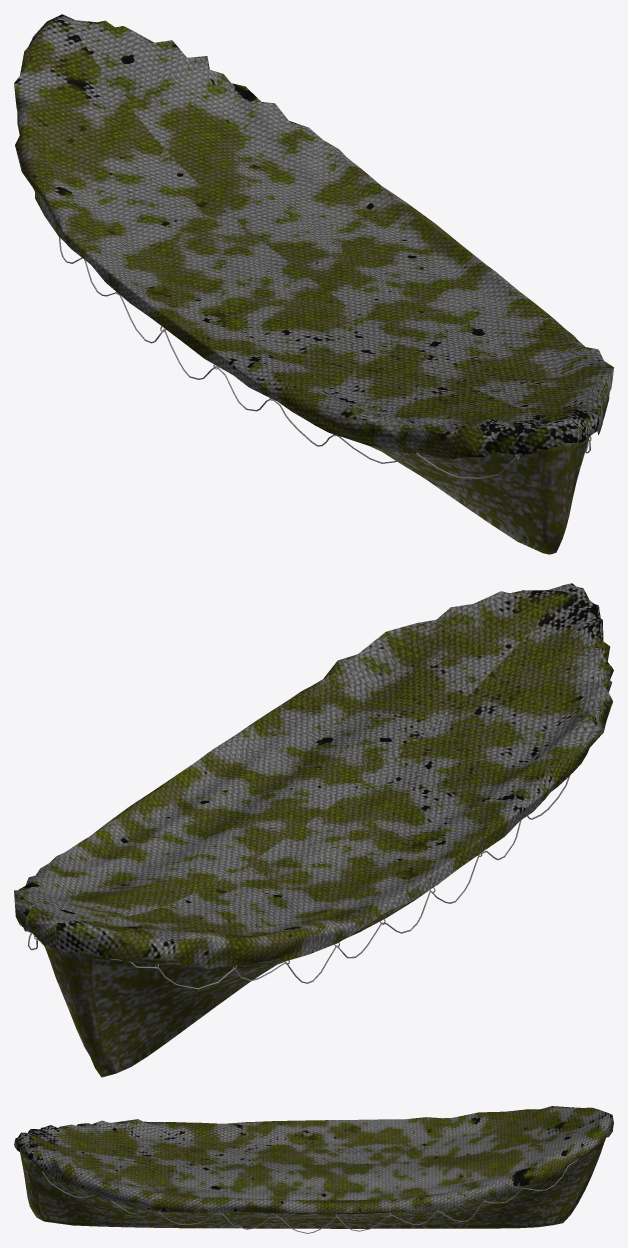
Rendered from boat.obj.
3 renders of one model, top to bottom at view 1: azimuth 30°, elevation 25°; view 2: azimuth 150°, elevation 25°; view 3: azimuth 270°, elevation 25°, orthographic. The views are drawn at different scales.
Parts seen in each view (by area): view 1: ROWBOAT2 ROWBOAT_CLOTH, ROWBOAT2 ROWBOAT_BODY, ROWBOAT_ROPE ROWBOAT2; view 2: ROWBOAT2 ROWBOAT_CLOTH, ROWBOAT2 ROWBOAT_BODY, ROWBOAT_ROPE ROWBOAT2; view 3: ROWBOAT2 ROWBOAT_CLOTH, ROWBOAT2 ROWBOAT_BODY, ROWBOAT_ROPE ROWBOAT2.
Boxes of the visible parts, <box> form: ROWBOAT2 ROWBOAT_CLOTH: <box>14,14,613,458</box>; ROWBOAT2 ROWBOAT_BODY: <box>217,80,590,554</box>; ROWBOAT_ROPE ROWBOAT2: <box>59,237,591,478</box>; ROWBOAT2 ROWBOAT_CLOTH: <box>14,583,613,969</box>; ROWBOAT2 ROWBOAT_BODY: <box>36,890,428,1077</box>; ROWBOAT_ROPE ROWBOAT2: <box>27,775,570,989</box>; ROWBOAT2 ROWBOAT_CLOTH: <box>14,1106,613,1213</box>; ROWBOAT2 ROWBOAT_BODY: <box>20,1130,605,1228</box>; ROWBOAT_ROPE ROWBOAT2: <box>42,1157,579,1233</box>.
Size of the model in its own units: 243 by 146 by 712.
3 materials, 2 textured.
